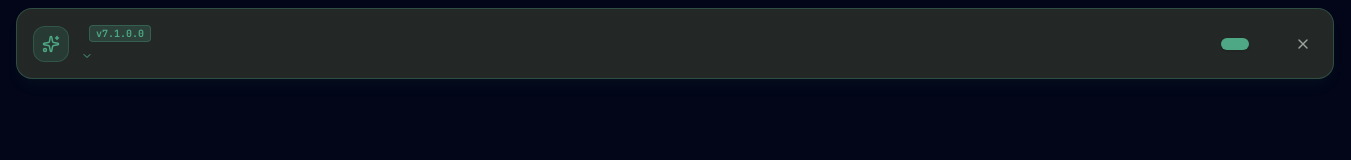
Test case: UpdateNotificationBanner › keeps the release notes collapsed until the user asks for them
Click the button with test id "banner-details-toggle".
click(89, 56)  # box [81, 50, 97, 62]
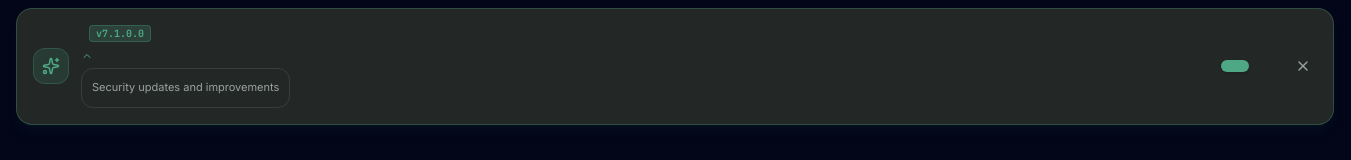
Expected: the text with test id "banner-release-notes" reads "Security updates and improvements", [92, 80, 279, 94]
